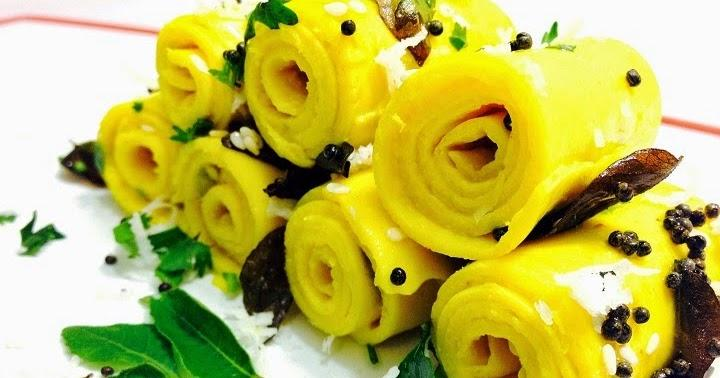khandvi: (79, 2, 720, 378)
